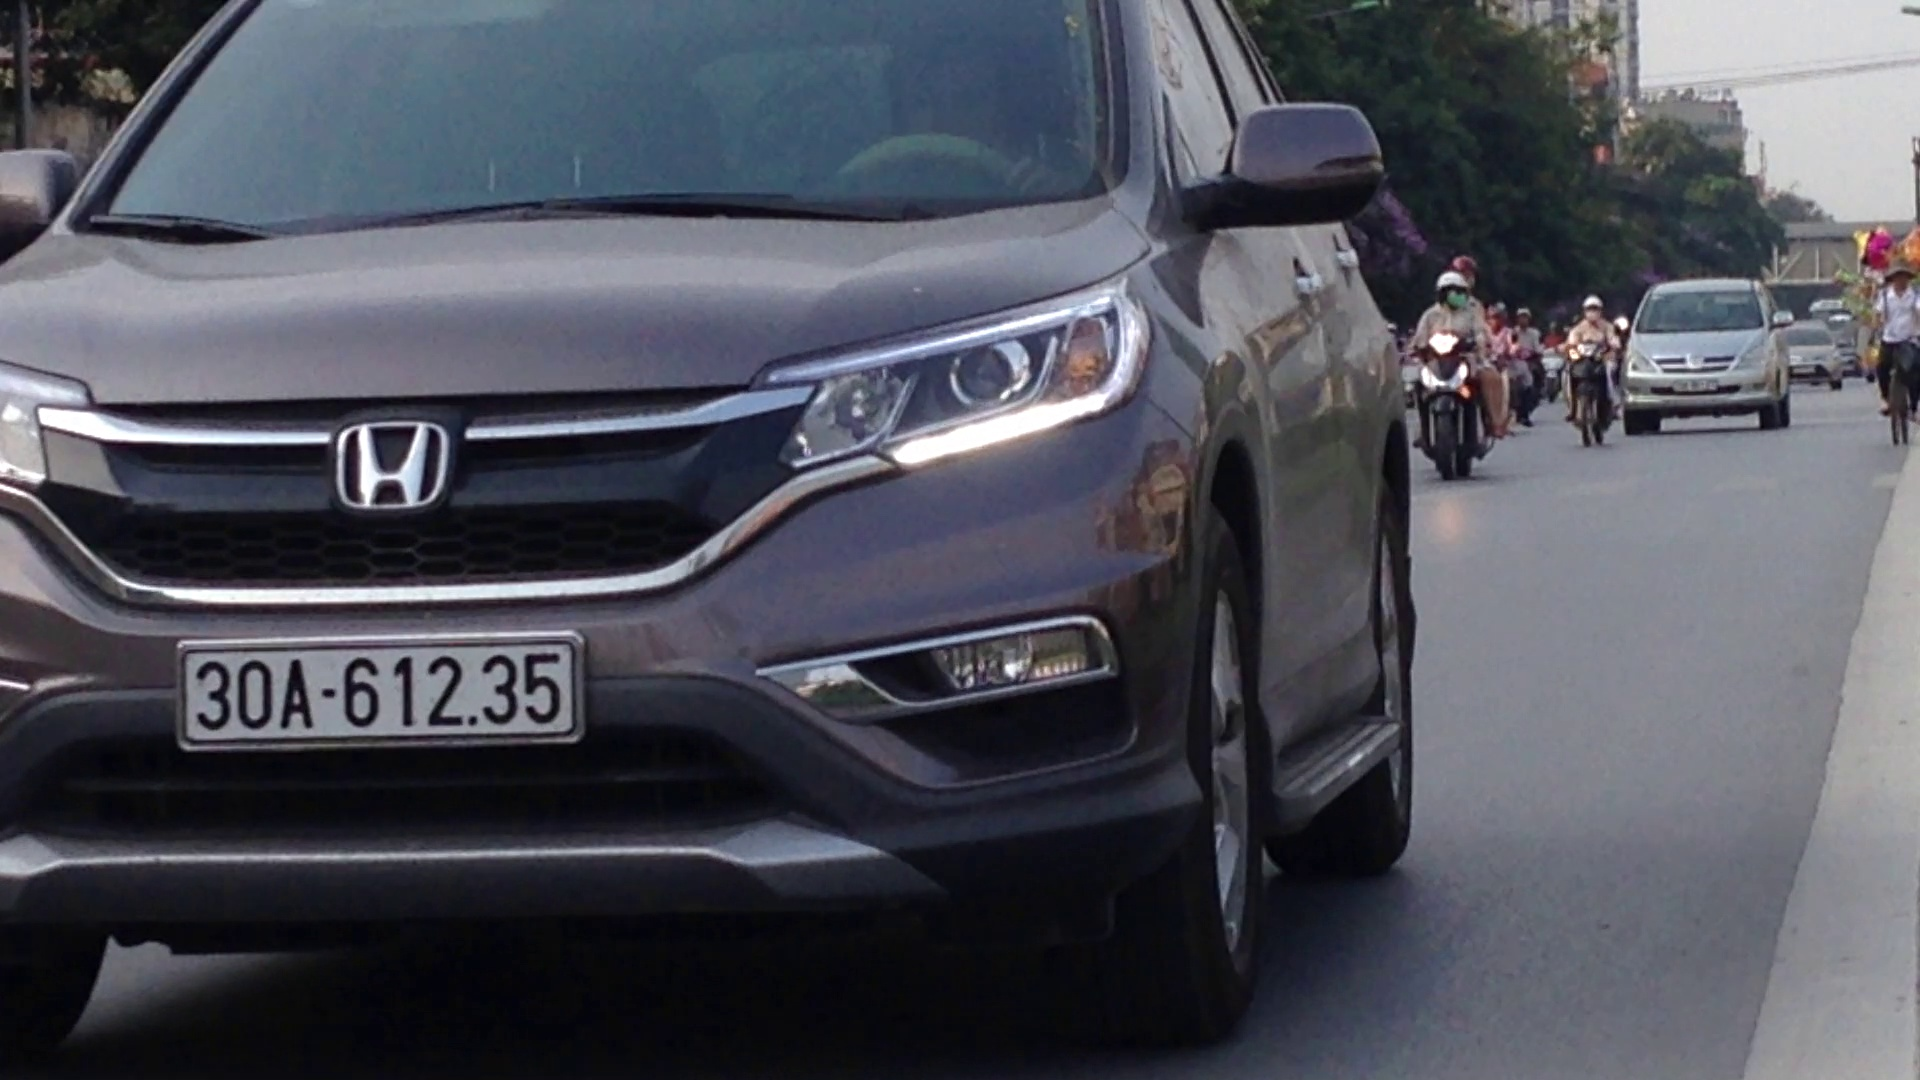person: (168, 624, 592, 753)
